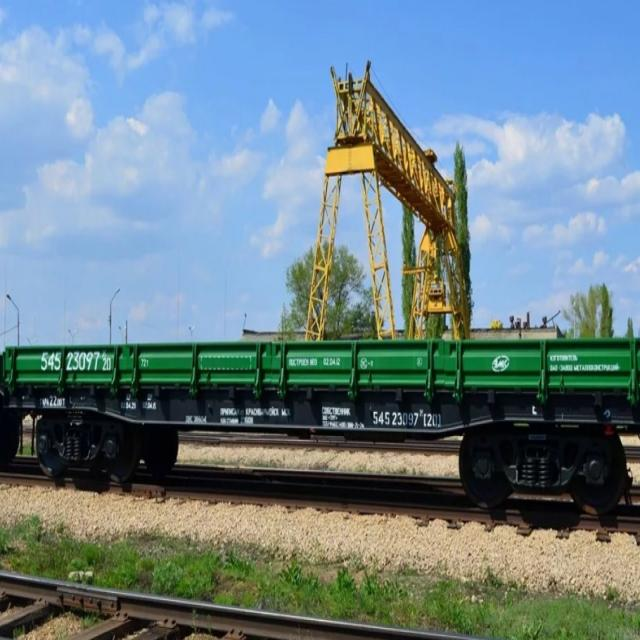flatcar: (0, 383, 640, 530)
